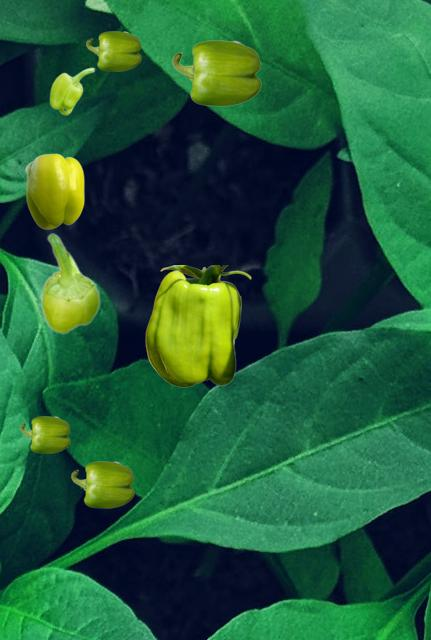bell_pepper: (145, 265, 250, 386), (40, 233, 100, 333), (172, 40, 260, 105), (25, 153, 83, 228), (71, 461, 133, 507), (49, 67, 94, 114), (86, 31, 140, 70), (20, 416, 69, 452)
